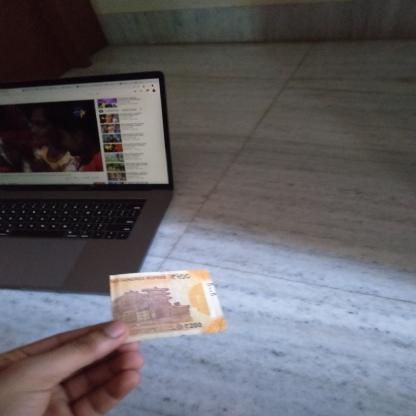New200Back: (107, 272, 213, 338)
